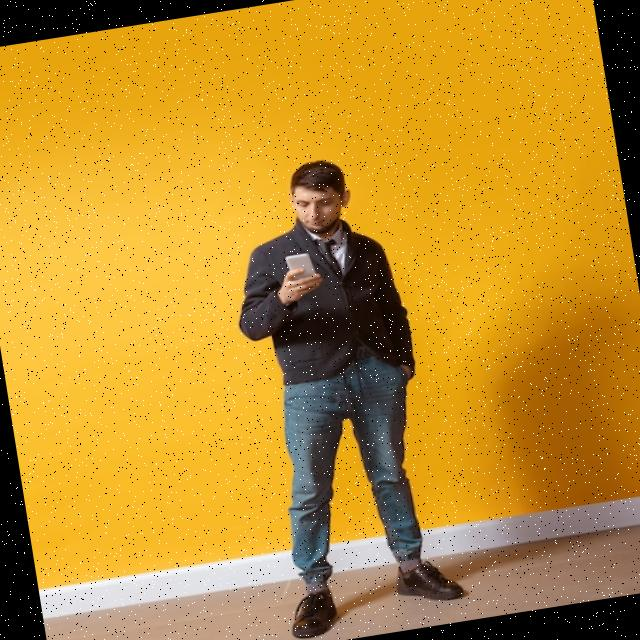Person: (216, 148, 470, 640)
